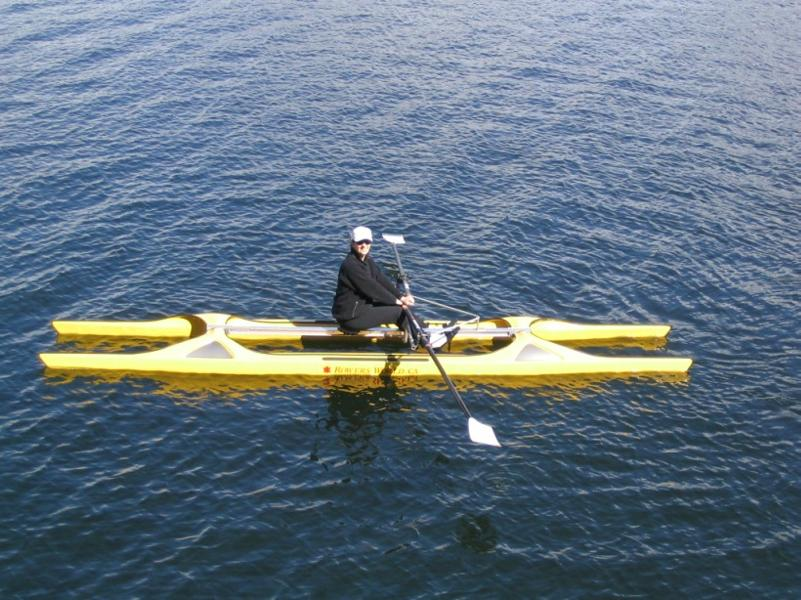person: (331, 226, 451, 351)
